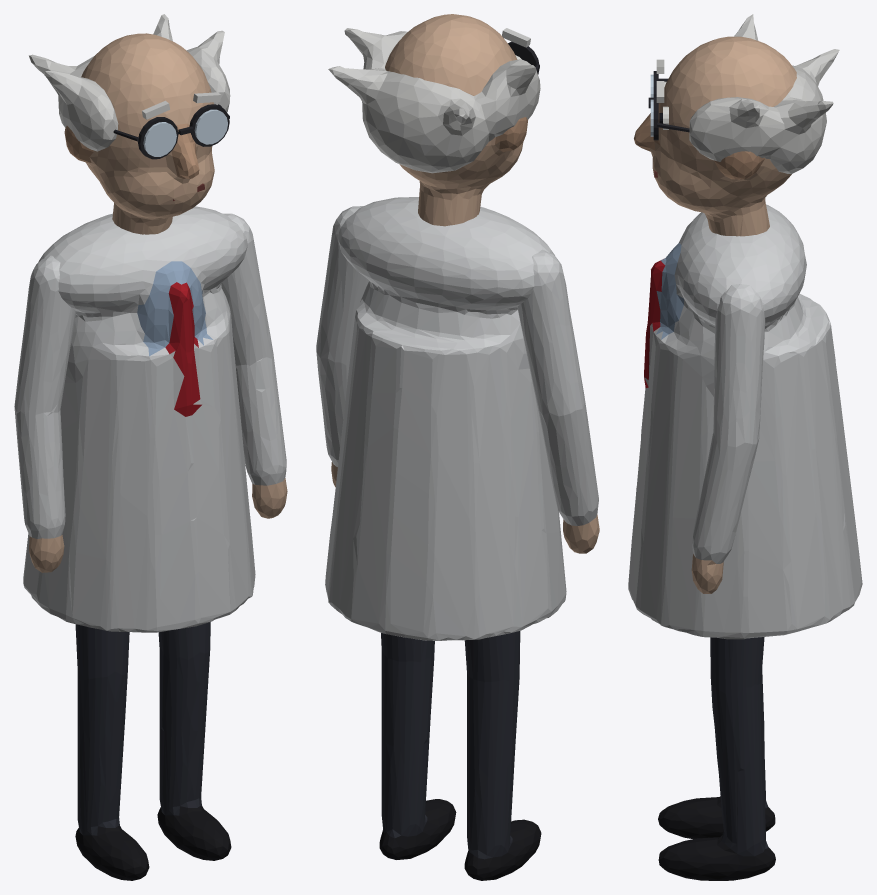
The model's file is SK_Scientist.glb.
3 views of the same model, side by side, from view 1: azimuth 30°, elevation 25°; view 2: azimuth 150°, elevation 25°; view 3: azimuth 270°, elevation 25° (orthographic). The views are drawn at different scales.
Parts seen in each view (by area): view 1: SK_Scientist; view 2: SK_Scientist; view 3: SK_Scientist.
Boxes of the visible parts, x1=… form: SK_Scientist: x1=14, y1=14, x2=287, y2=880; SK_Scientist: x1=316, y1=14, x2=599, y2=880; SK_Scientist: x1=628, y1=14, x2=862, y2=880.
Bounding box in the file's own units: 0.6257 × 1.9 × 0.4933.
